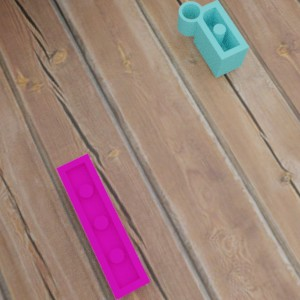lego: (56, 153, 150, 299), (177, 0, 249, 77)
